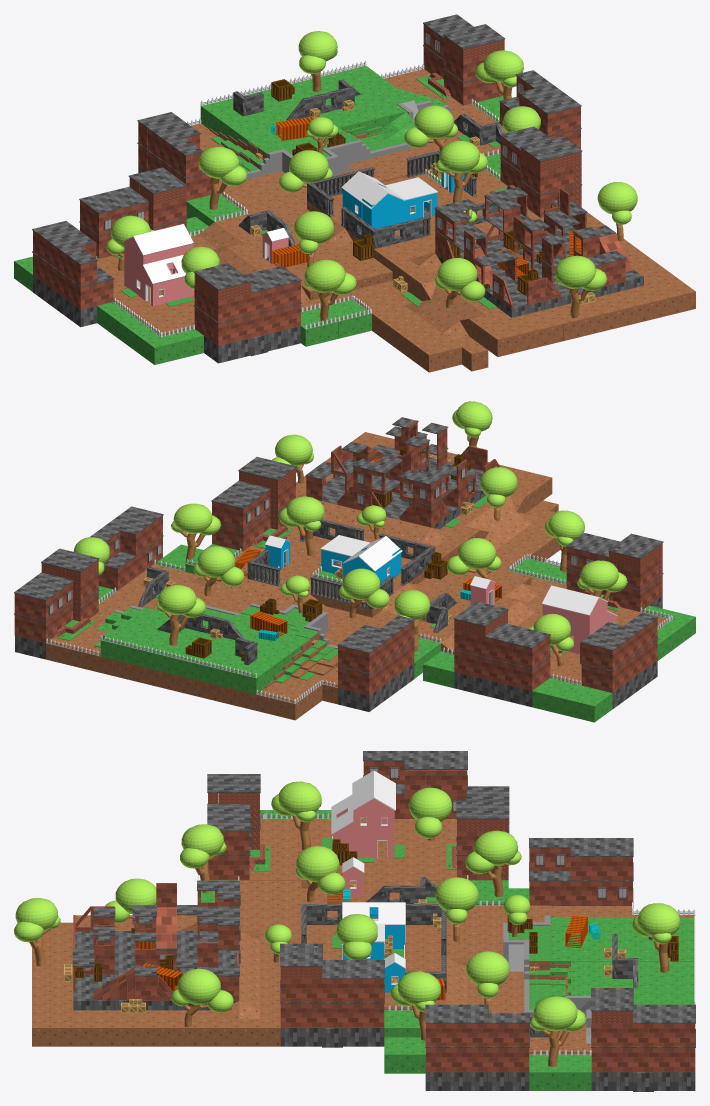
The picture shows the model from 3 angles, top to bottom: view 1: azimuth 30°, elevation 25°; view 2: azimuth 150°, elevation 25°; view 3: azimuth 270°, elevation 25°; orthographic projection. The views are drawn at different scales.
Parts seen in each view (by area): view 1: Tree.008, Tree.007, Tree, Tree.005, Tree2.001, Tree2.004, Tree2, Tree.003, Tree.001, Tree2.005, Tree2.002, Tree2.003 (+10 smaller); view 2: Tree.001, Tree.004, Tree2.001, Tree2, Tree2.002, Tree, Tree.006, Tree2.004, Tree.007, Tree.008, Tree2.005, Tree2.003 (+8 smaller); view 3: Tree2.005, Tree.005, Tree.003, Tree2.002, Tree.008, Tree.006, Tree.001, Tree.007, Tree.004, Tree2.003, Tree2, Tree2.001 (+55 smaller).
Part boxes in pixels (x1=…): Tree.008: x1=555, y1=255, x2=607, y2=318; Tree.007: x1=304, y1=259, x2=356, y2=321; Tree: x1=436, y1=140, x2=488, y2=202; Tree.005: x1=198, y1=146, x2=247, y2=209; Tree2.001: x1=404, y1=105, x2=457, y2=151; Tree2.004: x1=435, y1=258, x2=485, y2=307; Tree2: x1=279, y1=150, x2=332, y2=192; Tree.003: x1=475, y1=50, x2=523, y2=99; Tree.001: x1=298, y1=31, x2=337, y2=91; Tree2.005: x1=597, y1=182, x2=637, y2=241; Tree2.002: x1=294, y1=211, x2=334, y2=267; Tree2.003: x1=106, y1=215, x2=154, y2=270; Tree.001: x1=156, y1=584, x2=205, y2=645; Tree.004: x1=171, y1=503, x2=221, y2=562; Tree2.001: x1=193, y1=546, x2=244, y2=595; Tree2: x1=339, y1=568, x2=389, y2=618; Tree2.002: x1=446, y1=538, x2=501, y2=579; Tree: x1=279, y1=496, x2=324, y2=555; Tree.006: x1=577, y1=560, x2=627, y2=600; Tree2.004: x1=480, y1=467, x2=517, y2=521; Tree.007: x1=544, y1=510, x2=584, y2=571; Tree.008: x1=452, y1=401, x2=492, y2=447; Tree2.005: x1=272, y1=434, x2=313, y2=483; Tree2.003: x1=528, y1=613, x2=573, y2=666; Tree2.005: x1=171, y1=968, x2=233, y2=1027; Tree.005: x1=465, y1=830, x2=521, y2=896; Tree.003: x1=530, y1=996, x2=586, y2=1067; Tree2.002: x1=295, y1=846, x2=345, y2=902; Tree.008: x1=14, y1=898, x2=60, y2=966; Tree.006: x1=271, y1=781, x2=321, y2=850; Tree.001: x1=632, y1=903, x2=680, y2=972; Tree.007: x1=180, y1=824, x2=226, y2=892; Tree.004: x1=390, y1=971, x2=440, y2=1040; Tree2.003: x1=408, y1=787, x2=452, y2=840; Tree2: x1=435, y1=877, x2=478, y2=941; Tree2.001: x1=466, y1=951, x2=509, y2=1013.
Size of the model in its own units: 64.16 by 12.09 by 65.79.
22 materials, 5 textured.
